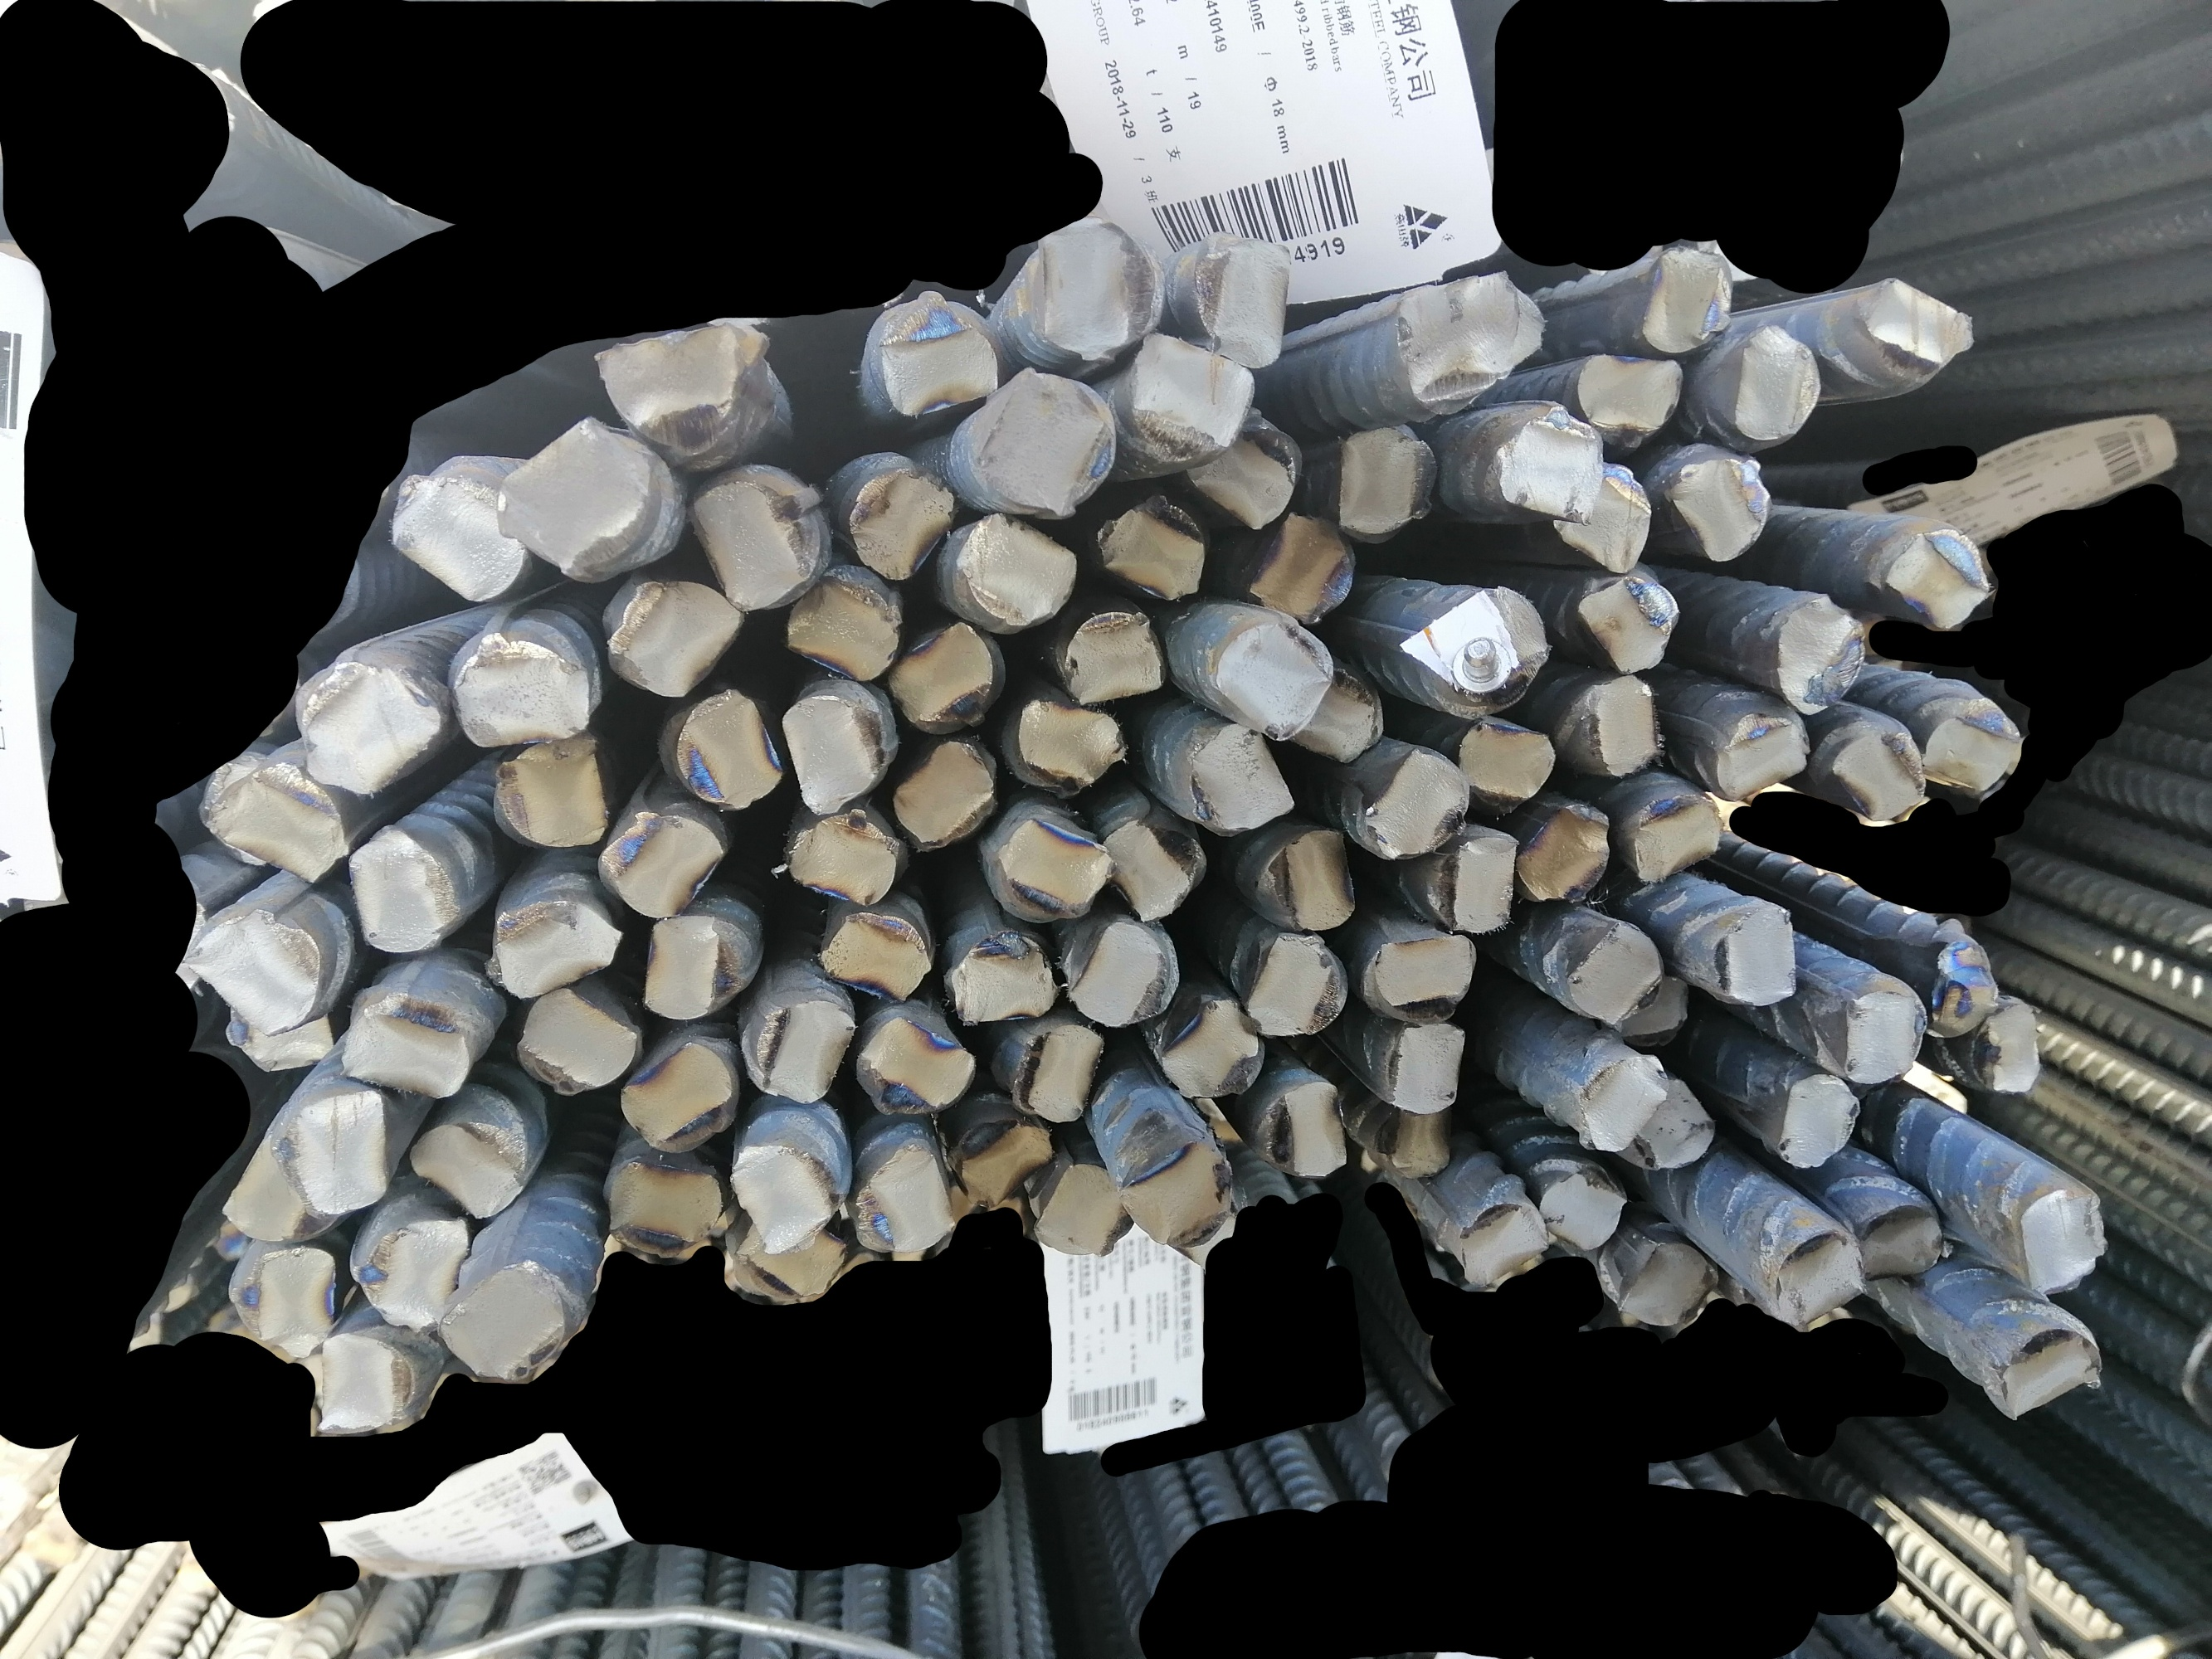rebar: (492, 415, 661, 575), (596, 315, 770, 458), (1398, 261, 1551, 418), (966, 364, 1119, 518), (293, 653, 448, 800), (1394, 580, 1553, 718), (1021, 221, 1170, 362), (387, 457, 530, 601), (446, 613, 598, 749), (200, 760, 352, 887), (270, 1079, 394, 1227), (865, 288, 1004, 418), (438, 1255, 579, 1384), (689, 464, 814, 608), (605, 570, 743, 701), (1128, 324, 1255, 464), (185, 910, 326, 1035), (1208, 612, 1333, 744), (1837, 277, 1982, 390), (1180, 404, 1306, 533), (1185, 235, 1297, 380), (220, 1115, 340, 1244), (596, 803, 727, 922), (345, 826, 462, 957), (336, 993, 474, 1101), (488, 728, 612, 847), (512, 985, 643, 1096), (957, 511, 1077, 631), (1119, 1126, 1238, 1248), (617, 1033, 736, 1154), (788, 561, 906, 681), (349, 1215, 471, 1331), (669, 688, 784, 812), (481, 897, 624, 997), (779, 690, 887, 821), (1243, 511, 1361, 627), (1879, 516, 1992, 638), (1496, 397, 1607, 521), (1182, 718, 1297, 836), (1347, 749, 1469, 861), (1335, 415, 1438, 545), (1706, 326, 1822, 443), (844, 462, 957, 580), (851, 1138, 959, 1262), (228, 1243, 342, 1359), (887, 617, 999, 735), (891, 734, 1002, 852), (1062, 918, 1182, 1028), (730, 1141, 840, 1260), (1984, 1316, 2106, 1422), (601, 1157, 725, 1262), (408, 1117, 532, 1222), (1551, 451, 1656, 575), (784, 810, 910, 913), (1768, 592, 1870, 718), (856, 1011, 976, 1117), (1096, 491, 1210, 603), (1816, 976, 1928, 1089), (2010, 1178, 2109, 1304), (640, 915, 750, 1025), (1919, 690, 2025, 803), (1666, 450, 1771, 565), (750, 999, 859, 1107), (1095, 814, 1203, 924), (814, 908, 938, 1004), (1571, 572, 1682, 678), (1156, 992, 1267, 1096), (1060, 605, 1171, 709), (995, 812, 1110, 913), (1243, 932, 1349, 1040), (1642, 240, 1736, 361), (1569, 1049, 1673, 1157), (1823, 714, 1926, 824), (1576, 349, 1691, 446), (1562, 922, 1670, 1025), (1367, 929, 1482, 1025), (314, 1330, 417, 1436), (1013, 695, 1124, 793), (1288, 657, 1389, 763), (1260, 824, 1360, 932), (948, 931, 1063, 1023), (1455, 718, 1558, 819), (1769, 1223, 1867, 1330), (725, 1218, 851, 1300), (1032, 1159, 1133, 1260), (1008, 1021, 1107, 1124), (1517, 802, 1614, 906), (1614, 1239, 1726, 1330), (1708, 897, 1799, 1009), (1768, 1072, 1863, 1176), (948, 1117, 1055, 1211), (1576, 669, 1668, 777), (1255, 1073, 1349, 1178), (1426, 833, 1520, 938), (1630, 791, 1727, 889), (1618, 1075, 1717, 1171), (1710, 709, 1811, 803), (225, 999, 338, 1079), (1853, 1194, 1949, 1284), (1919, 932, 1999, 1040), (1966, 993, 2048, 1098), (1455, 1197, 1551, 1286), (1537, 1166, 1628, 1255), (1381, 1023, 1466, 1117), (1609, 971, 1700, 1056), (1365, 1105, 1454, 1183)
